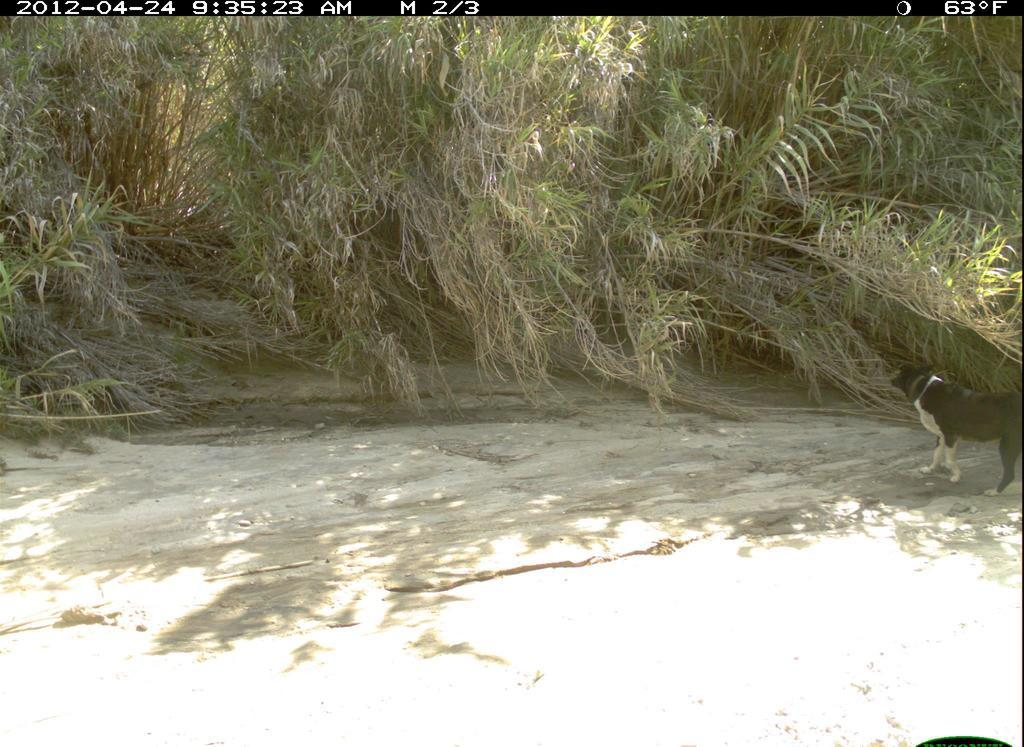dog: (876, 353, 1023, 504)
